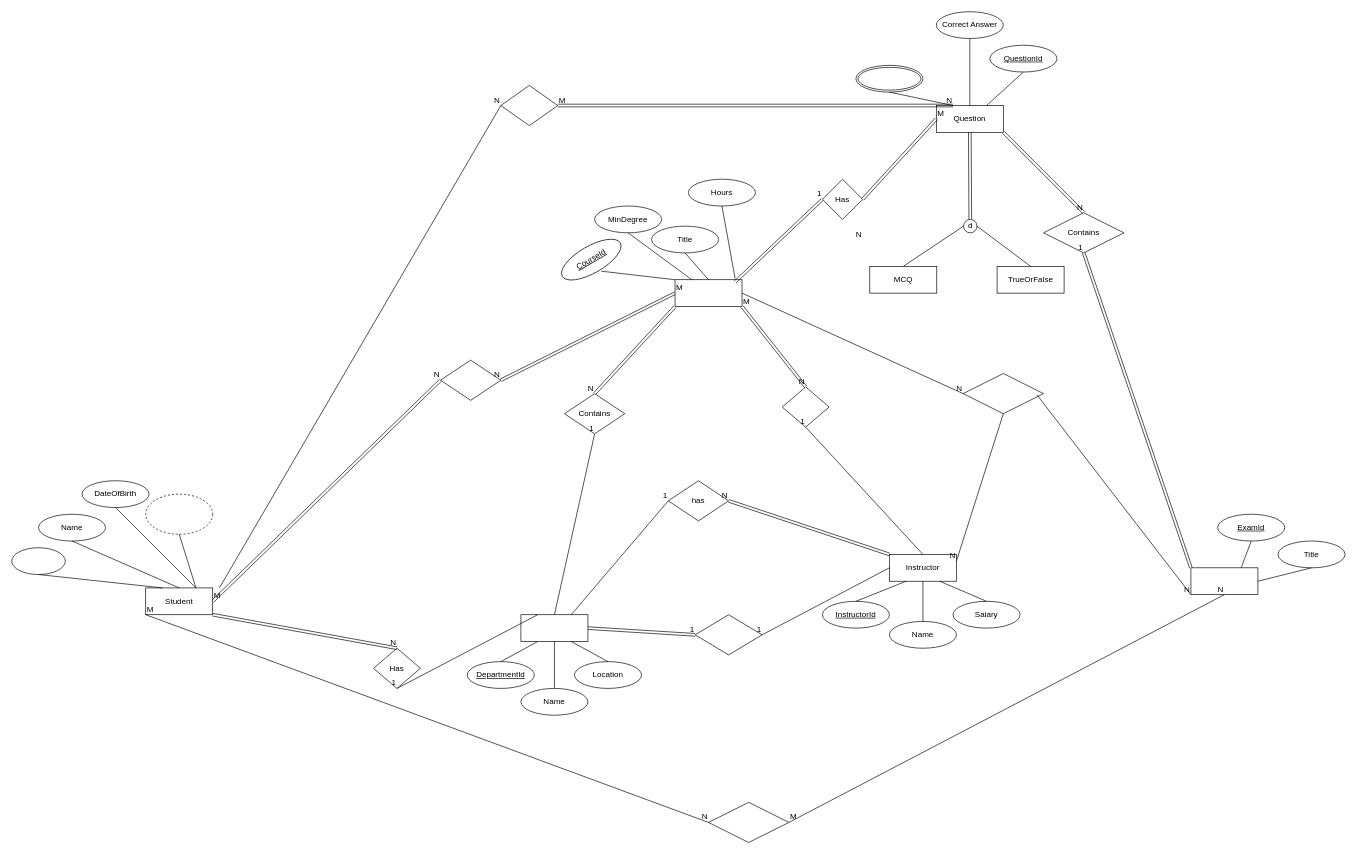
The diagram is 1357 pixels wide and 854 high, and some of its shapes have lost their labels. Here are the shapes that lost their labels. From the top down, the centre of each, then its label:
At point (889, 78): "Choices".
At point (529, 105): "Answer".
At point (708, 293): "Course".
At point (470, 379): "Study".
At point (1003, 393): "Made".
At point (805, 406): "Teaches".
At point (179, 513): "Age".
At point (38, 561): "StudentId".
At point (1224, 581): "Esam".
At point (554, 628): "Department".
At point (728, 634): "Manage".
At point (748, 822): "do".
